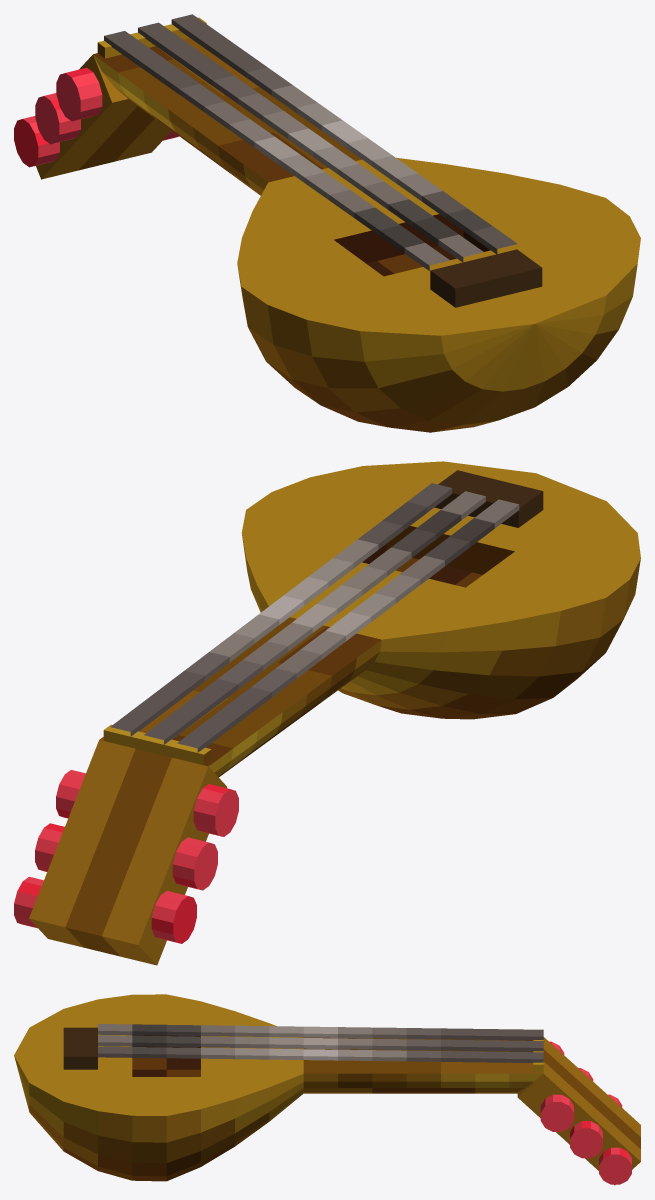
The model's file is lute_692x01.gltf.
3 views of the same model, one above another, from view 1: azimuth 30°, elevation 25°; view 2: azimuth 150°, elevation 25°; view 3: azimuth 270°, elevation 25° (orthographic). The views are drawn at different scales.
Visible parts, largest first — view 1: Lute_692x01; view 2: Lute_692x01; view 3: Lute_692x01.
Boxes of the visible parts, <box> form: Lute_692x01: <box>14,14,640,432</box>; Lute_692x01: <box>14,461,640,965</box>; Lute_692x01: <box>14,994,640,1185</box>.
Size of the model in its own units: 1.25 by 0.6149 by 2.72.
1 material, 1 textured.
